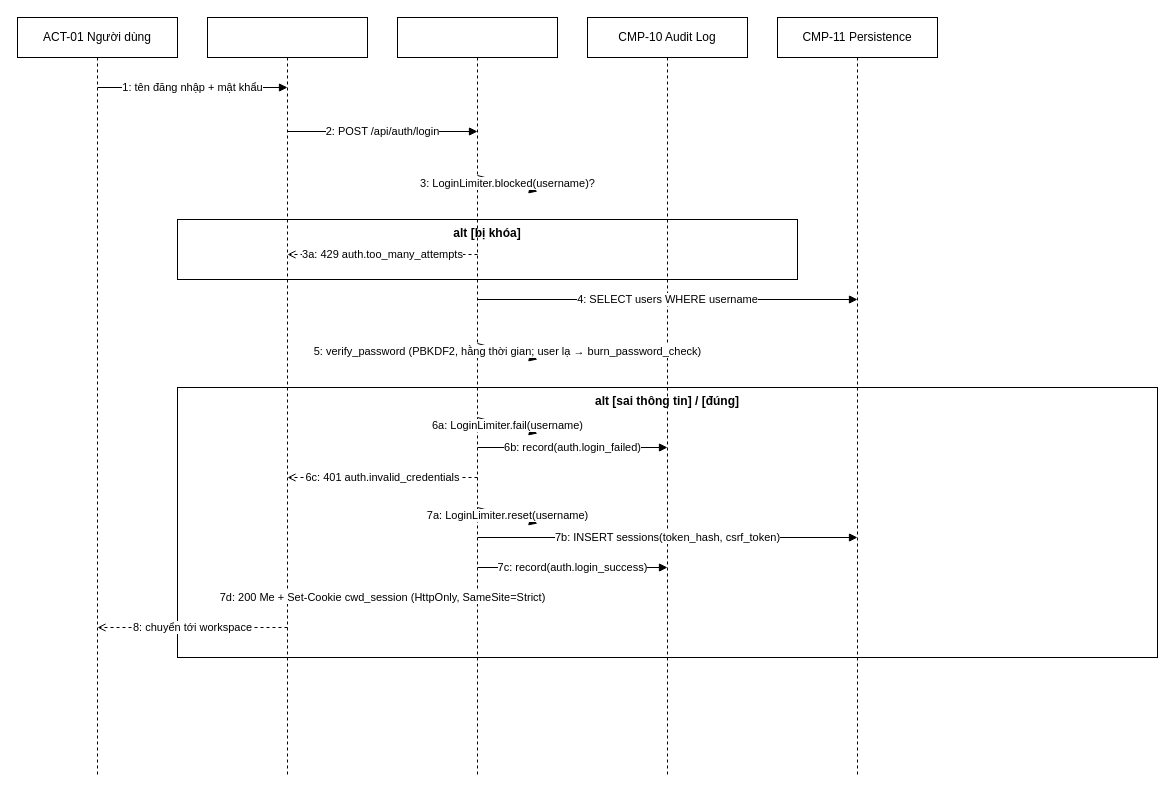
The diagram is 1175 pixels wide and 795 high, and some of its shapes have lost their labels. Here are the shapes that lost their labels. From the top down, the box of each, then its label:
(206, 16, 368, 778): CMP-01 Web UI
(396, 16, 558, 778): CMP-03 Auth & Session
